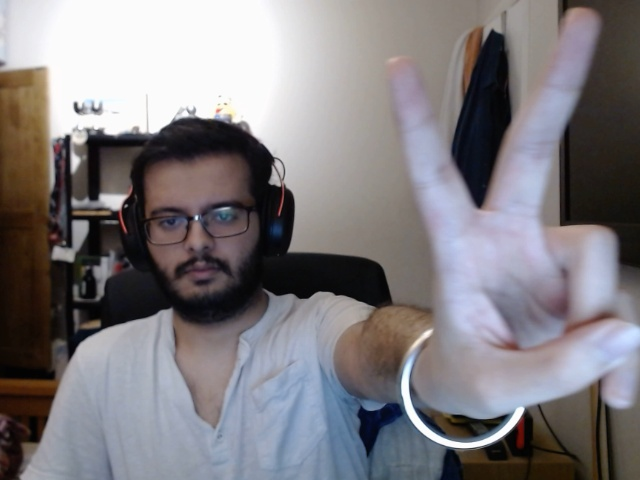Peace: (362, 2, 640, 444)
